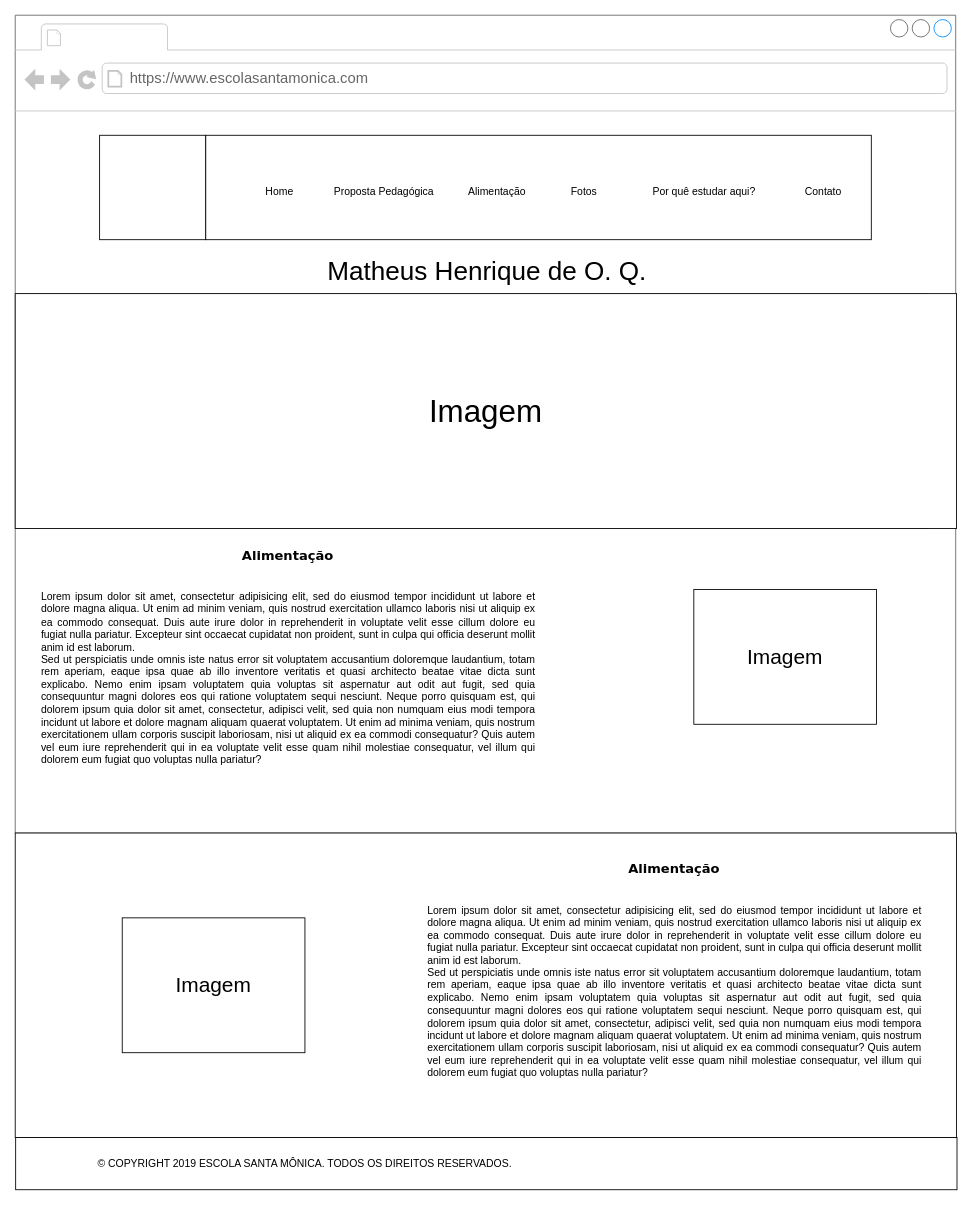
This 973x1205 diagram has some shape labels left out. Each missing label, with the centre of its shape:
Logo: point (152, 187)
Page 1: point (115, 36)
